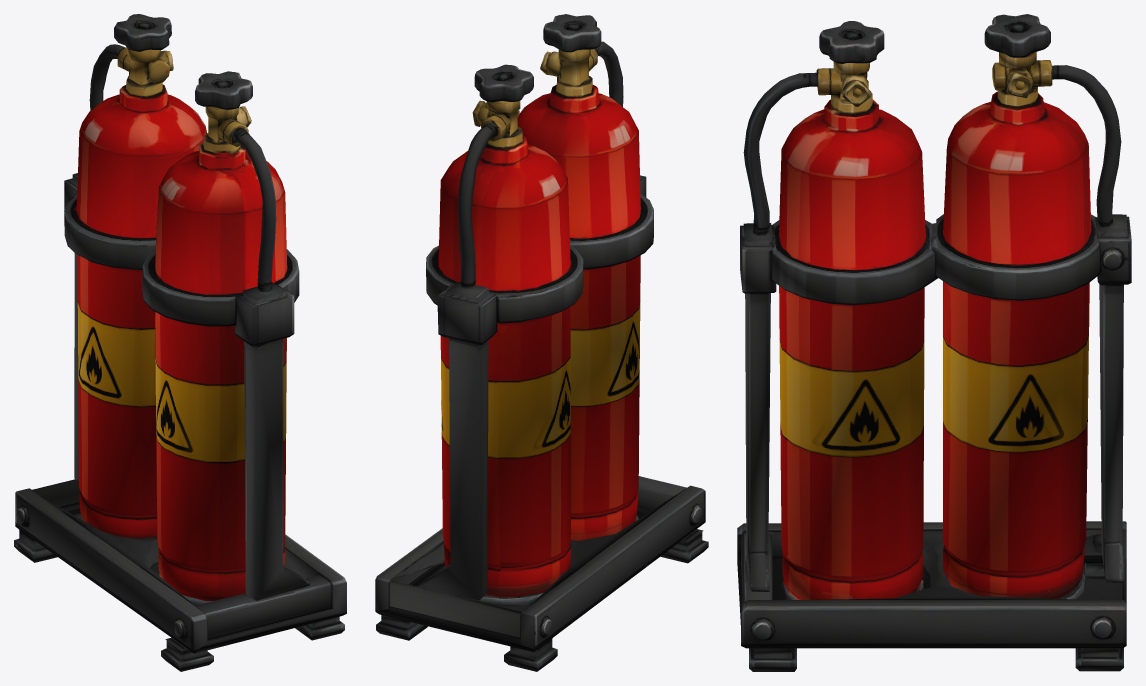
Rendered from gas.glb.
3 renders of one model, left to right at view 1: azimuth 30°, elevation 25°; view 2: azimuth 150°, elevation 25°; view 3: azimuth 270°, elevation 25°, orthographic. The views are drawn at different scales.
Visible parts, largest first — view 1: tripo_node_4c0c8fd8-c317-45c3-a78a-7901d2b1fccb; view 2: tripo_node_4c0c8fd8-c317-45c3-a78a-7901d2b1fccb; view 3: tripo_node_4c0c8fd8-c317-45c3-a78a-7901d2b1fccb.
Boxes of the visible parts, x1=… form: tripo_node_4c0c8fd8-c317-45c3-a78a-7901d2b1fccb: x1=14, y1=14, x2=346, y2=671; tripo_node_4c0c8fd8-c317-45c3-a78a-7901d2b1fccb: x1=375, y1=14, x2=708, y2=671; tripo_node_4c0c8fd8-c317-45c3-a78a-7901d2b1fccb: x1=737, y1=14, x2=1131, y2=671.
Size of the model in its own units: 0.4412 by 1.35 by 0.8005.
Materials: 1 (1 with a texture image).
